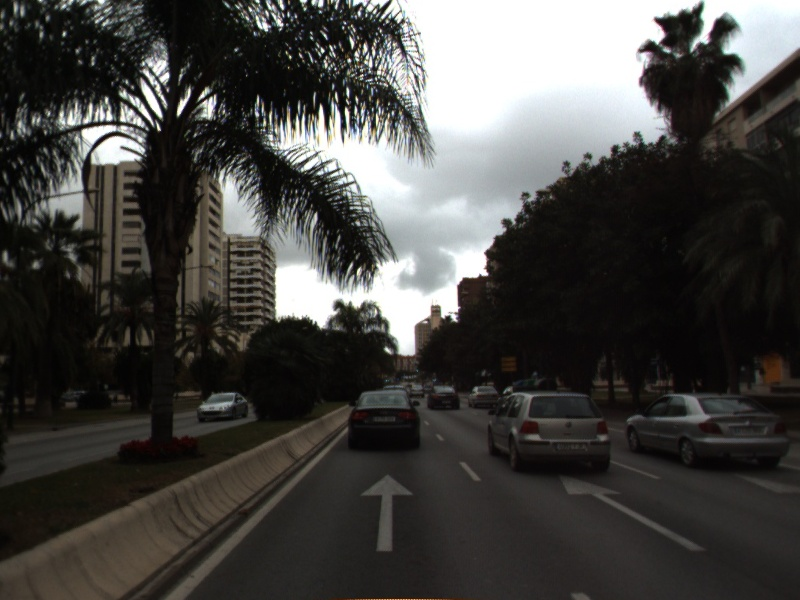STRAIGHT: (556, 472, 709, 554), (357, 472, 416, 554)
